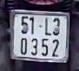0: (20, 37, 27, 56)
1: (29, 16, 37, 36)
2: (51, 38, 63, 58)
3: (29, 37, 39, 57), (52, 17, 62, 36)
5: (39, 37, 50, 57), (20, 15, 29, 35)
L: (44, 17, 52, 36)
